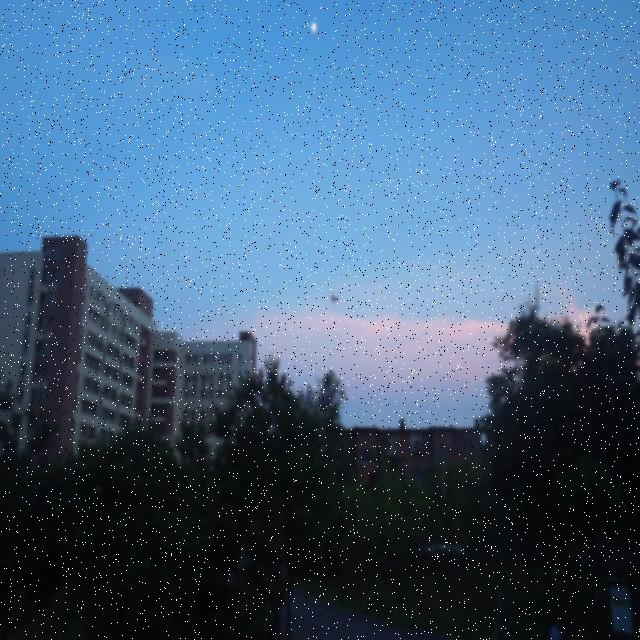UAV: (328, 292, 340, 304)
